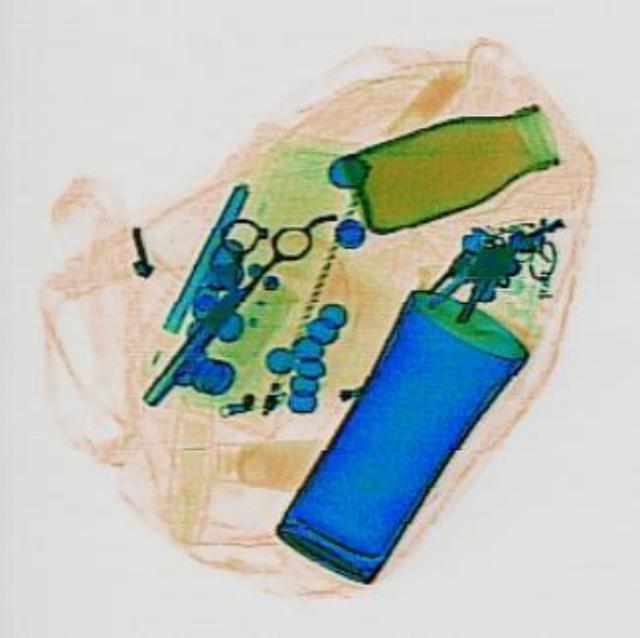Scissors: (184, 198, 316, 330)
